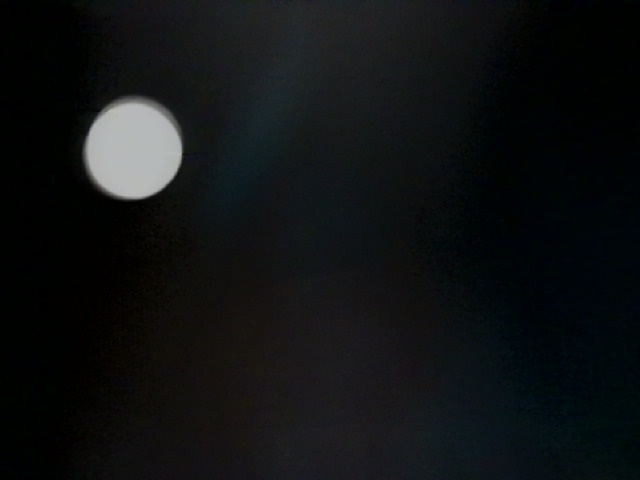KHSLJ: (169, 281, 639, 480)
